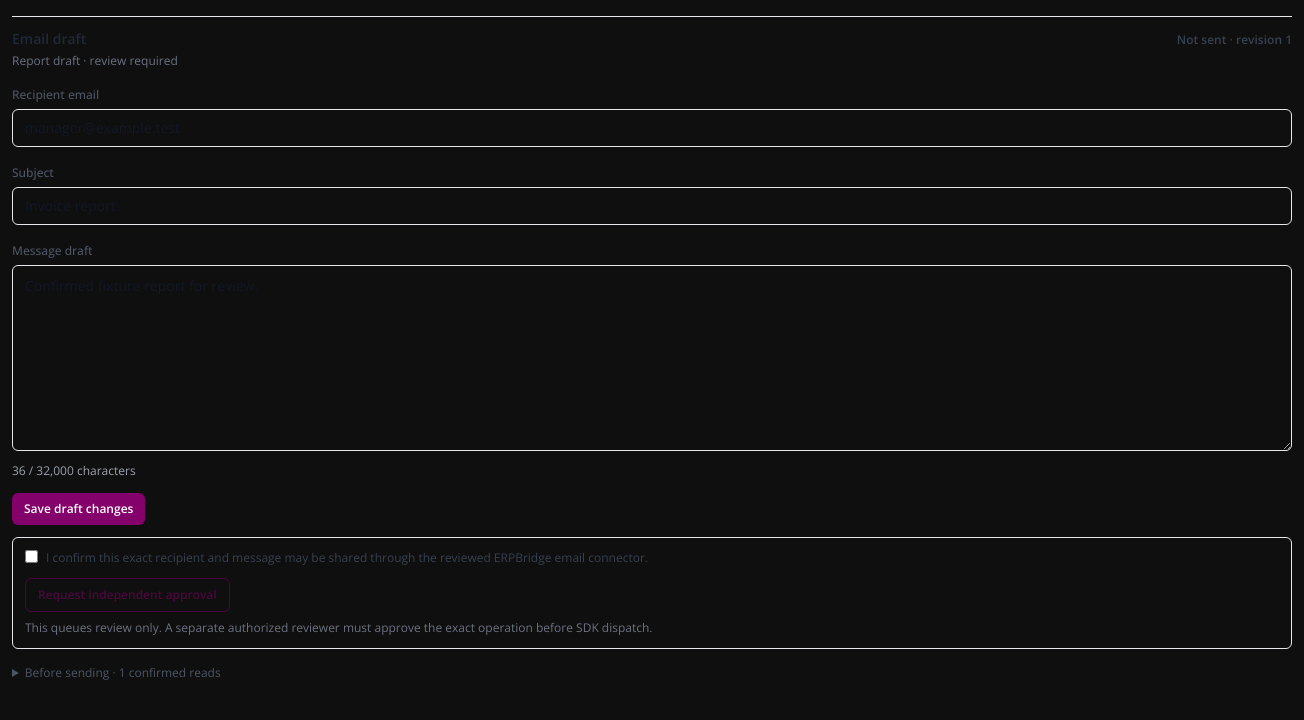
Test: uncertain approval acknowledgement locks resubmission until reload
Click the checkbox labelled "I confirm this exact recipient".
click(32, 556)  # box left=25, top=550, right=38, bottom=563
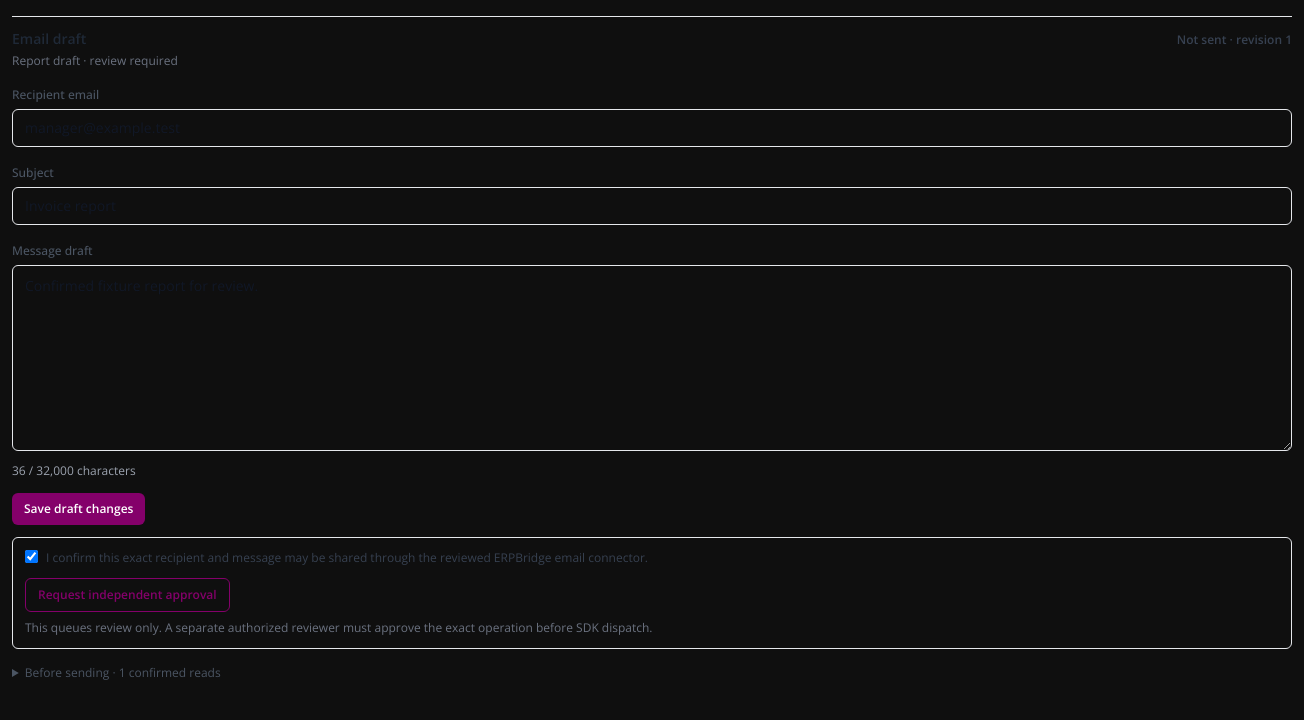
Click the button "Request independent approval".
click(127, 595)  # box left=25, top=578, right=230, bottom=612
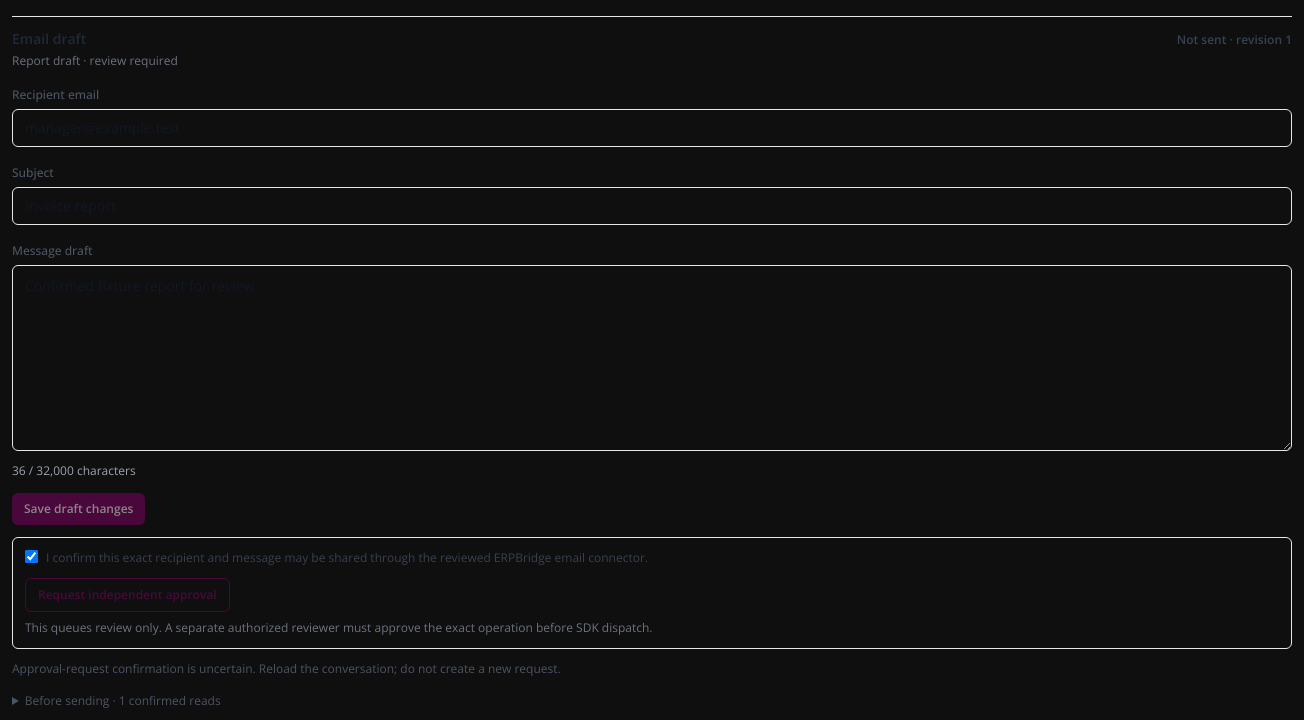
expect the message shows "uncertain": met, box left=12, top=660, right=561, bottom=677
expect the button "Request independent approval" is disabled: met, box left=25, top=578, right=230, bottom=612
